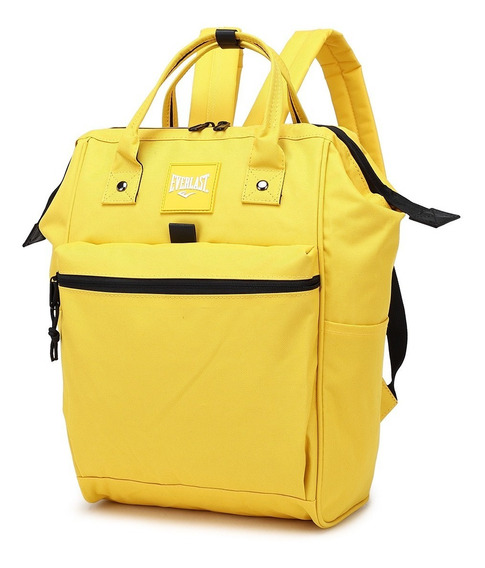cartera: (22, 27, 421, 529)
